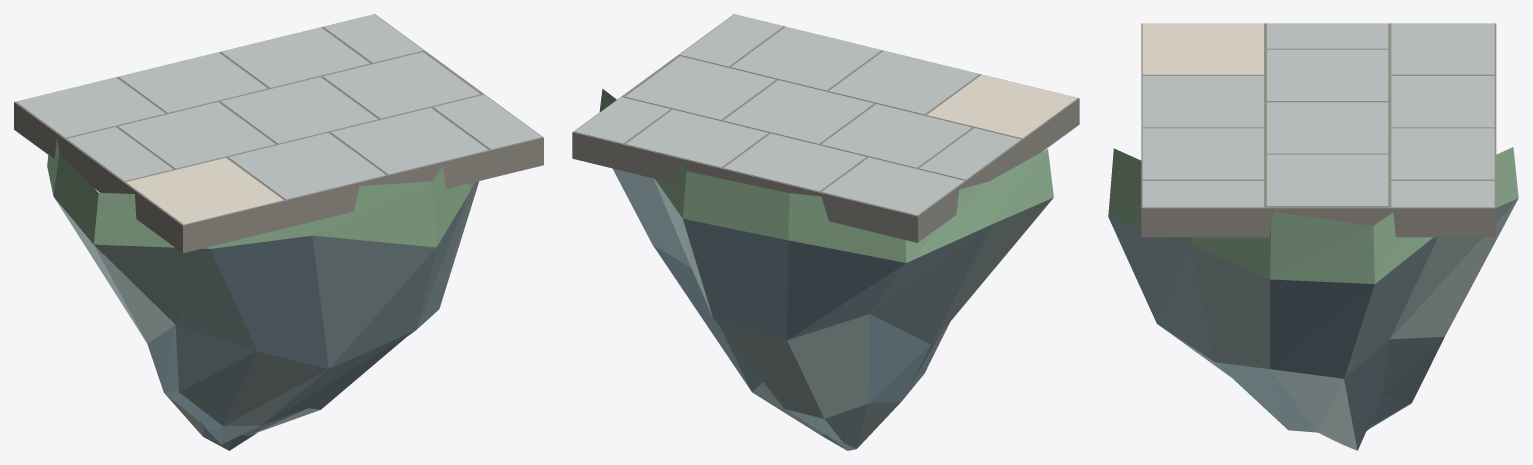
File: FloatingIsland07.glb
The picture shows the model from 3 angles, left to right: view 1: azimuth 30°, elevation 25°; view 2: azimuth 150°, elevation 25°; view 3: azimuth 270°, elevation 25°; orthographic projection. The views are drawn at different scales.
Parts seen in each view (by area): view 1: FloatingIsland07; view 2: FloatingIsland07; view 3: FloatingIsland07.
Part boxes in pixels (box(x1,y1,x2,y2)): FloatingIsland07: box(14, 14, 543, 450); FloatingIsland07: box(572, 14, 1079, 450); FloatingIsland07: box(1108, 23, 1518, 450).
Size of the model in its own units: 4.36 by 3.26 by 3.47.
